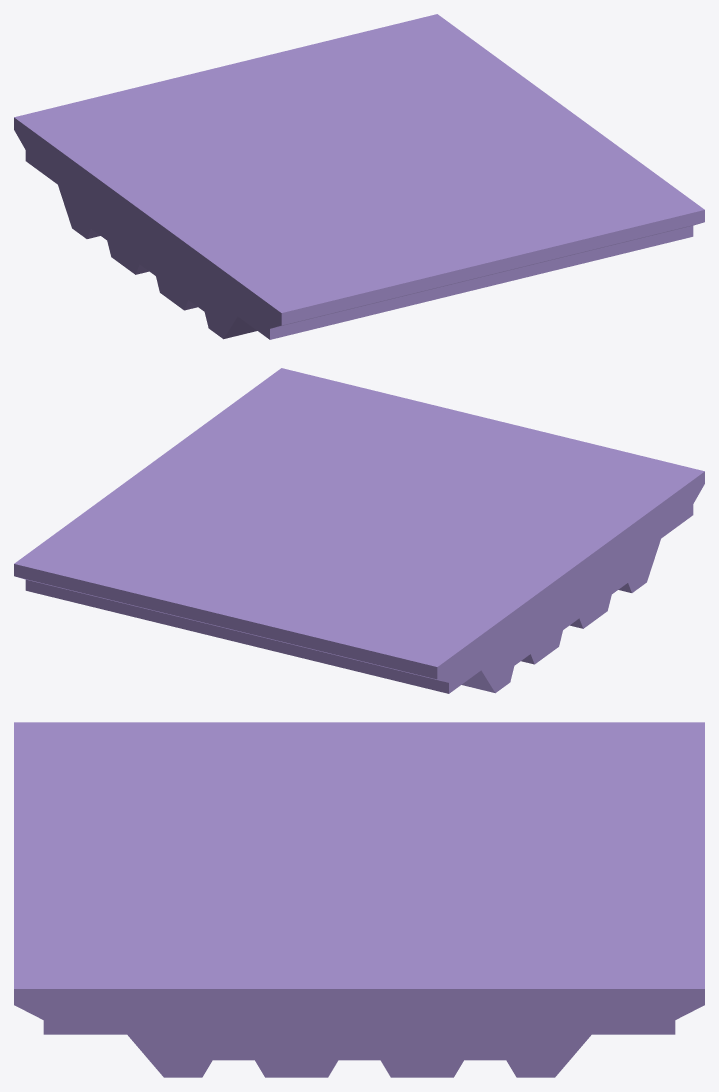
Rendered from SM_Bridge_01.fbx.
3 views of the same model, one above another, from view 1: azimuth 30°, elevation 25°; view 2: azimuth 150°, elevation 25°; view 3: azimuth 270°, elevation 25° (orthographic). The views are drawn at different scales.
Parts seen in each view (by area): view 1: SM_Bridge_01; view 2: SM_Bridge_01; view 3: SM_Bridge_01.
Part boxes in pixels (left/top/right/bottom): SM_Bridge_01: left=14, top=14, right=704, bottom=339; SM_Bridge_01: left=14, top=368, right=704, bottom=693; SM_Bridge_01: left=14, top=722, right=704, bottom=1077.
Bounding box in the file's own units: 800 × 124 × 875.
